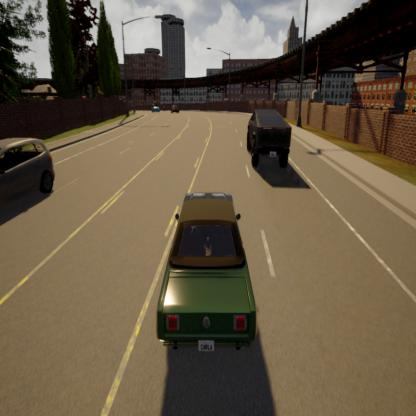Cars: (154, 178, 259, 362), (0, 130, 64, 227), (238, 101, 296, 178), (150, 101, 162, 115), (170, 103, 179, 115)
